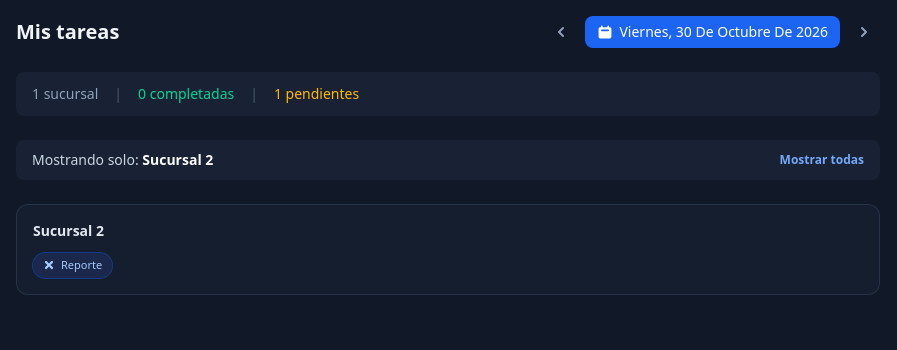
it: MyTasksPage scope params › clears the branch filter back to every branch
Click the button "Mostrar todas": (822, 160) [780, 152, 864, 168]
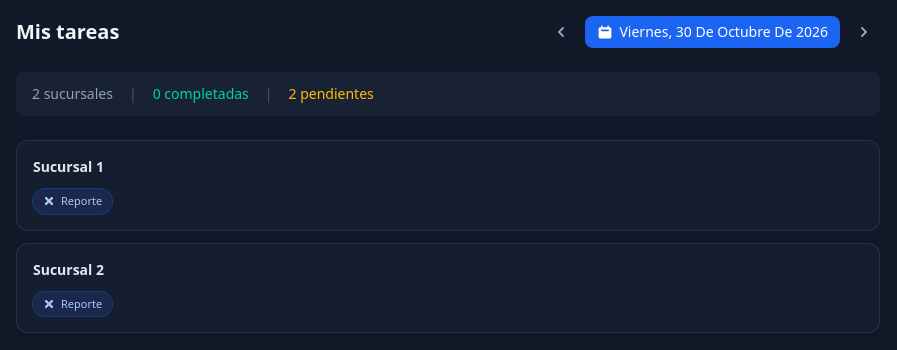
Expected: the heading "Sucursal 1" is shown, [33, 157, 104, 177]
